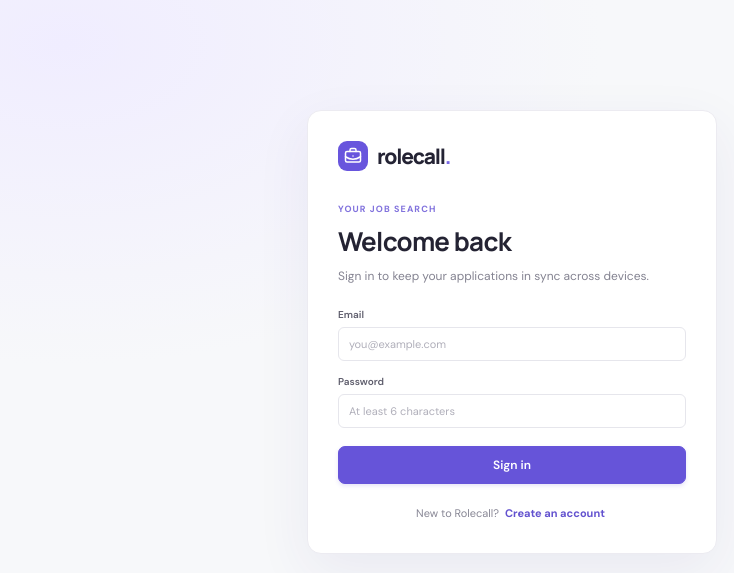
authentication form › disables duplicate submissions until sign-in settles
Type "person@example.com" into the field labelled "Email" at [512, 344], box [338,327,686,361]
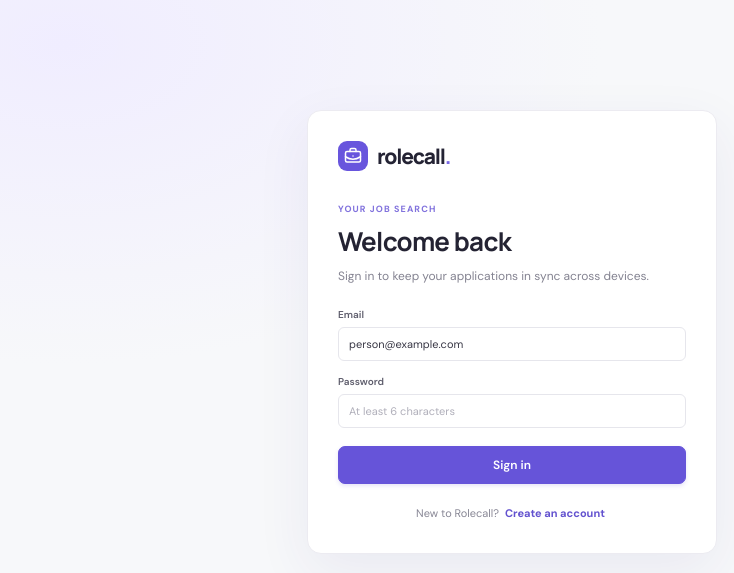
Type "secret123" into the password field labelled "Password" at [512, 411], box [338,394,686,428]
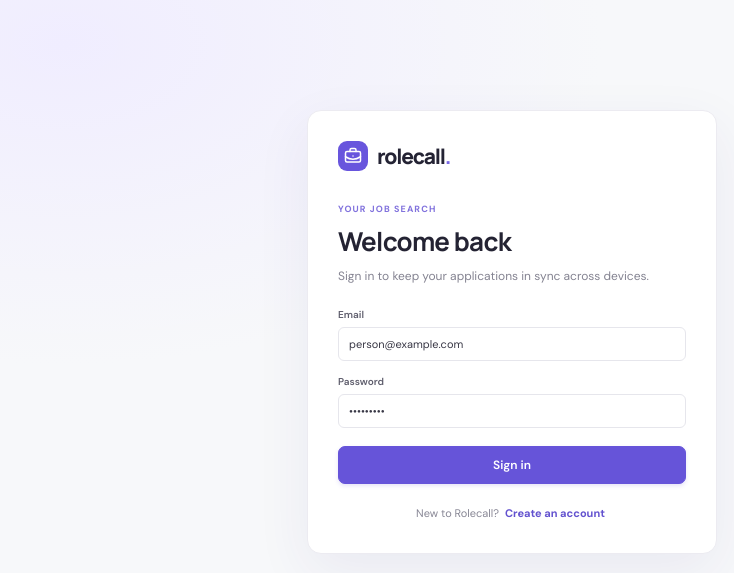
Click the button "Sign in" at [512, 465], box [338,446,686,484]
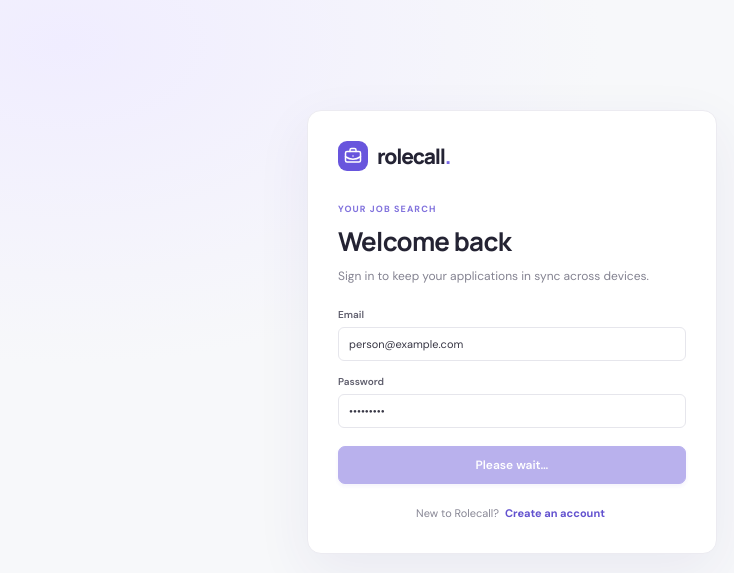
Expected: the button "Please wait…" is disabled
Click the button "Please wait…" at [512, 465], box [338,446,686,484]
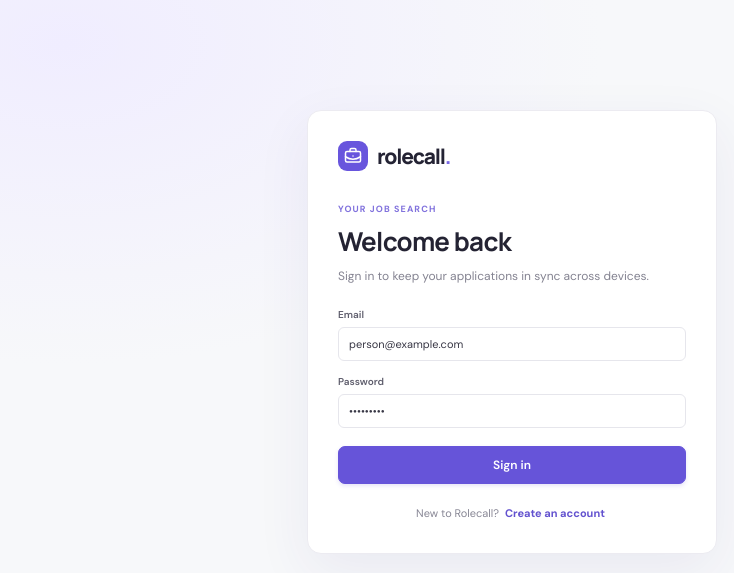
Expected: the button "Sign in" is shown, [338,446,686,484]
